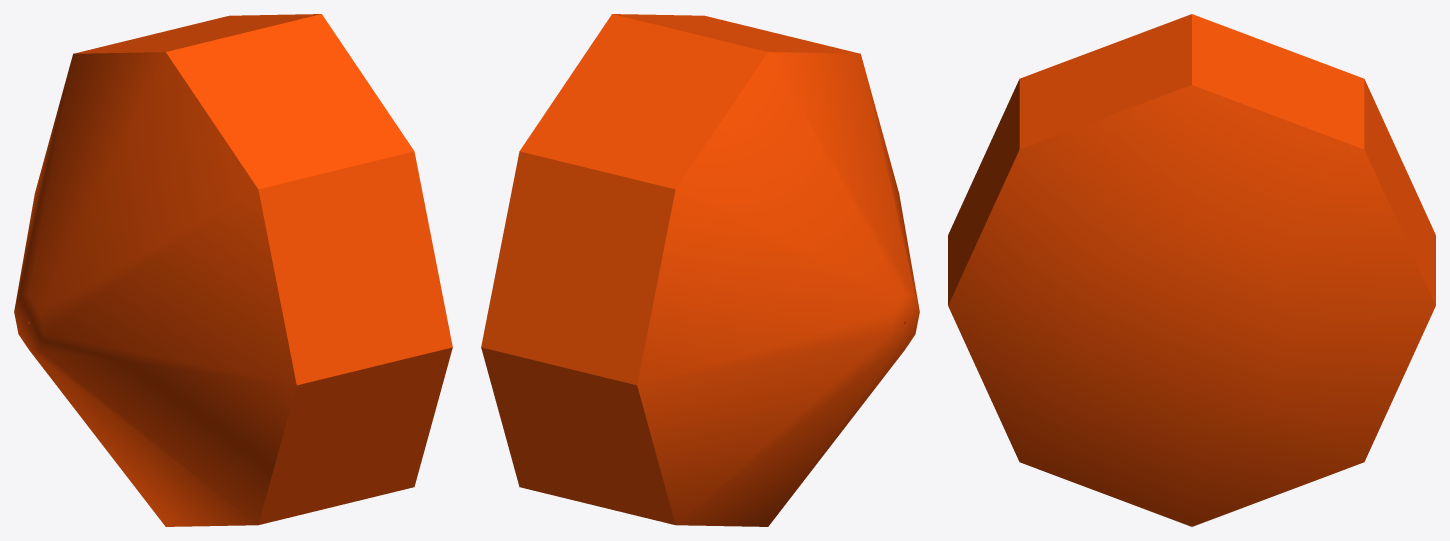
Rendered from flower3_particle.fbx.
The picture shows the model from 3 angles, left to right: view 1: azimuth 30°, elevation 25°; view 2: azimuth 150°, elevation 25°; view 3: azimuth 270°, elevation 25°; orthographic projection. The views are drawn at different scales.
Parts seen in each view (by area): view 1: Cone_1; view 2: Cone_1; view 3: Cone_1.
Part boxes in pixels (x1,y1,x2,y2): Cone_1: (14,14,452,526); Cone_1: (481,14,919,526); Cone_1: (948,14,1435,526).
Size of the model in its own units: 1.92 by 2.51 by 2.51.
